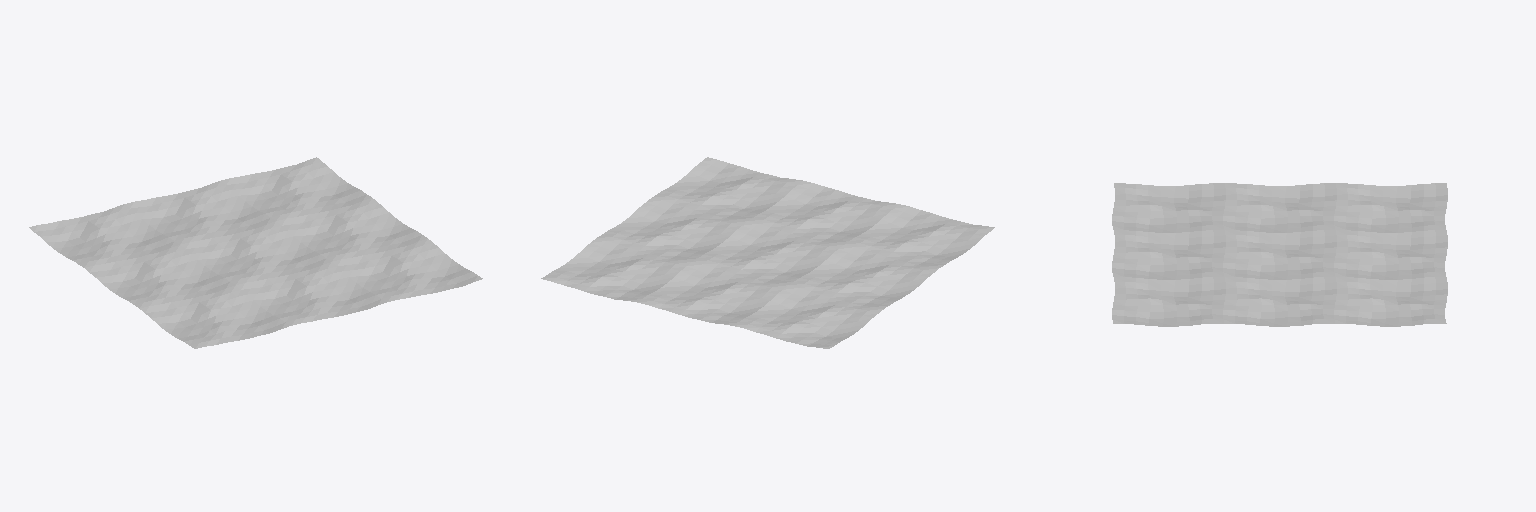
The model's file is ocean_000168.obj.
The picture shows the model from 3 angles: view 1: azimuth 30°, elevation 25°; view 2: azimuth 150°, elevation 25°; view 3: azimuth 270°, elevation 25°; orthographic projection.
Visible parts, largest first — view 1: Ocean_Plan.001; view 2: Ocean_Plan.001; view 3: Ocean_Plan.001.
Part boxes in pixels (left/top/right/bottom): Ocean_Plan.001: left=29, top=157, right=482, bottom=348; Ocean_Plan.001: left=541, top=157, right=994, bottom=348; Ocean_Plan.001: left=1112, top=183, right=1447, bottom=326.
Bounding box in the file's own units: 109046 × 2010 × 110113.